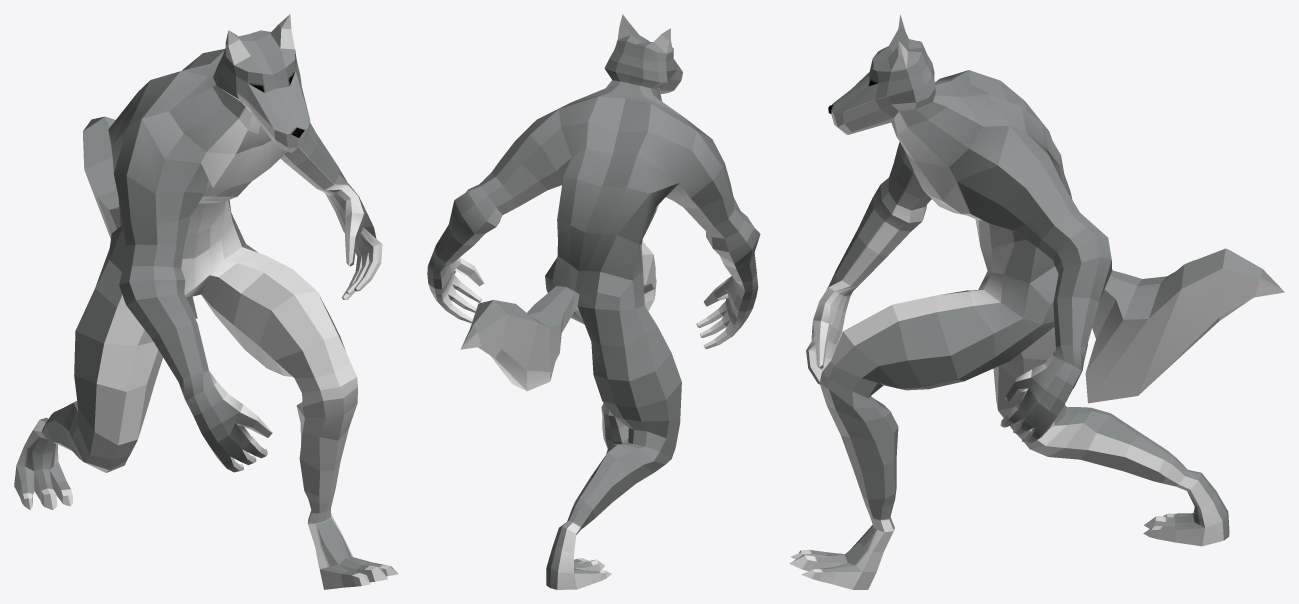
The model's file is WolfWalk(9).obj.
The picture shows the model from 3 angles, left to right: view 1: azimuth 30°, elevation 25°; view 2: azimuth 150°, elevation 25°; view 3: azimuth 270°, elevation 25°; orthographic projection. The views are drawn at different scales.
Parts seen in each view (by area): view 1: Box001; view 2: Box001; view 3: Box001.
Part boxes in pixels (bbox=[...]): Box001: bbox=[14, 14, 398, 589]; Box001: bbox=[427, 14, 760, 589]; Box001: bbox=[789, 14, 1284, 589].
Bounding box in the file's own units: 78.05 × 132 × 110.
